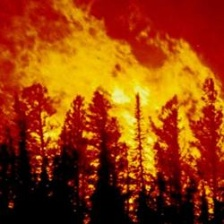fire: (17, 24, 224, 193)
